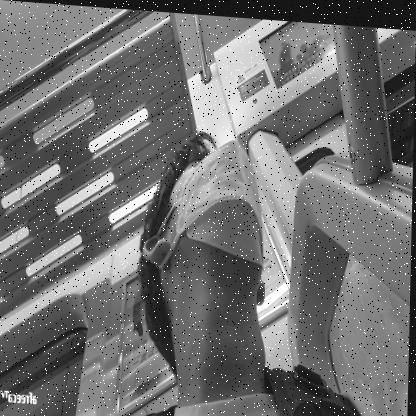streamer: (123, 125, 414, 416)
